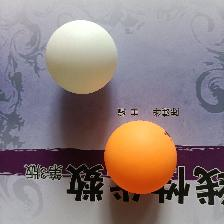WhiteBall: (45, 19, 119, 94)
YellowBall: (104, 119, 177, 194)
